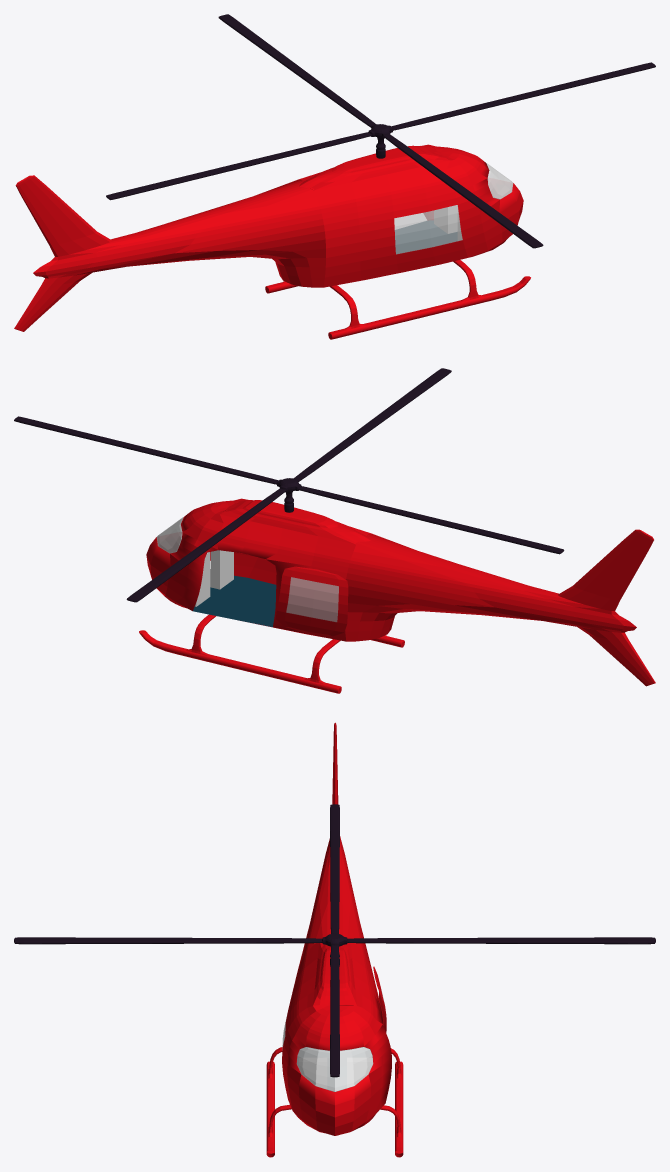
File: ヘリコプター.fbx
3 renders of one model, top to bottom at view 1: azimuth 30°, elevation 25°; view 2: azimuth 150°, elevation 25°; view 3: azimuth 270°, elevation 25°, orthographic.
Parts seen in each view (by area): view 1: Sphere, Cylinder, Cylinder.001, Sphere.001, Cube.003; view 2: Sphere, Cylinder, Sphere.002, Cylinder.001, Cube.002, Sphere.001; view 3: Sphere, Cylinder, Sphere.001, Cylinder.001.
Part boxes in pixels (x1=…): Sphere: x1=14, y1=144, x2=523, y2=331; Cylinder: x1=106, y1=14, x2=655, y2=248; Cylinder.001: x1=265, y1=260, x2=530, y2=339; Sphere.001: x1=486, y1=163, x2=513, y2=199; Cube.003: x1=434, y1=205, x2=457, y2=233; Sphere: x1=146, y1=498, x2=655, y2=686; Cylinder: x1=14, y1=368, x2=564, y2=602; Sphere.002: x1=275, y1=566, x2=348, y2=636; Cylinder.001: x1=139, y1=614, x2=404, y2=693; Cube.002: x1=210, y1=550, x2=233, y2=589; Sphere.001: x1=156, y1=517, x2=183, y2=553; Sphere: x1=282, y1=722, x2=391, y2=1135; Cylinder: x1=14, y1=804, x2=655, y2=1077; Sphere.001: x1=296, y1=1047, x2=373, y2=1091; Cylinder.001: x1=266, y1=1047, x2=403, y2=1157.
Bounding box in the file's own units: 1302 × 401 × 1112.
